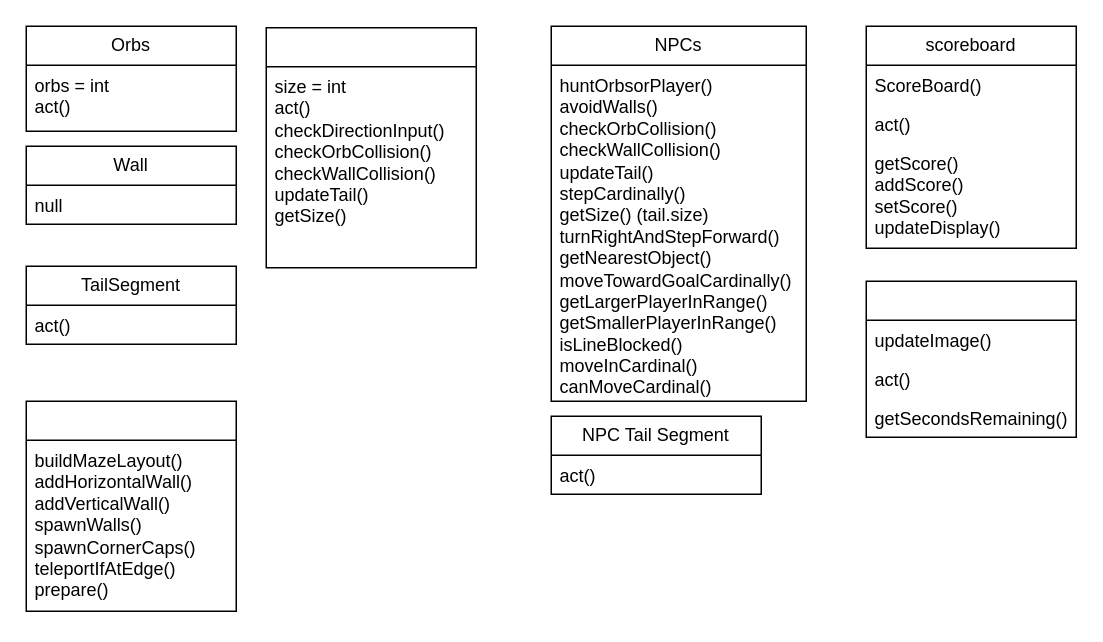
The diagram is 1103 pixels wide and 642 high, and some of its shapes have lost their labels. The shapes that lost their labels are listed below. From the top down, each one's box as (x1, y1, x2, y2) in pixels, then its label:
(265, 26, 476, 268): player
(865, 280, 1076, 437): Timer
(25, 400, 236, 611): BodyBlock (World)
